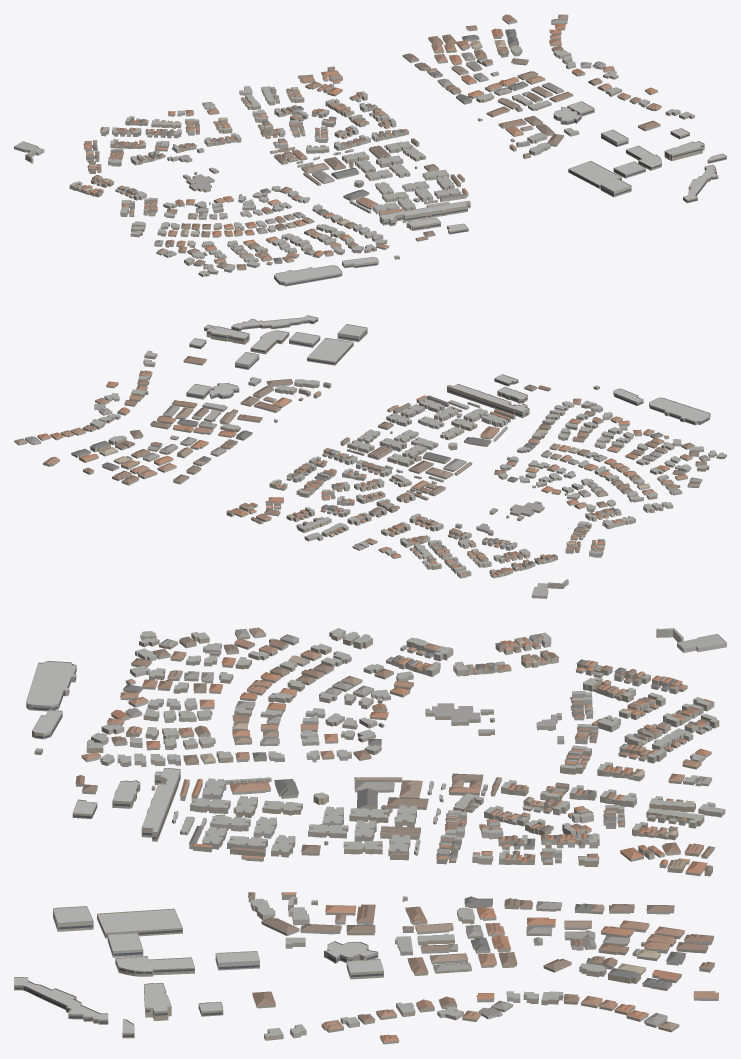
File: buildings_r2_c7.glb
3 views of the same model, one above another, from view 1: azimuth 30°, elevation 25°; view 2: azimuth 150°, elevation 25°; view 3: azimuth 270°, elevation 25° (orthographic). The views are drawn at different scales.
Visible parts, largest first — view 1: buildings_r2_c7; view 2: buildings_r2_c7; view 3: buildings_r2_c7.
Boxes of the visible parts, box(x1,y1,x2,y2) form: buildings_r2_c7: box(14, 14, 726, 286); buildings_r2_c7: box(14, 315, 726, 598); buildings_r2_c7: box(14, 627, 726, 1044).
Size of the model in its own units: 1145 by 39.4 by 828.
